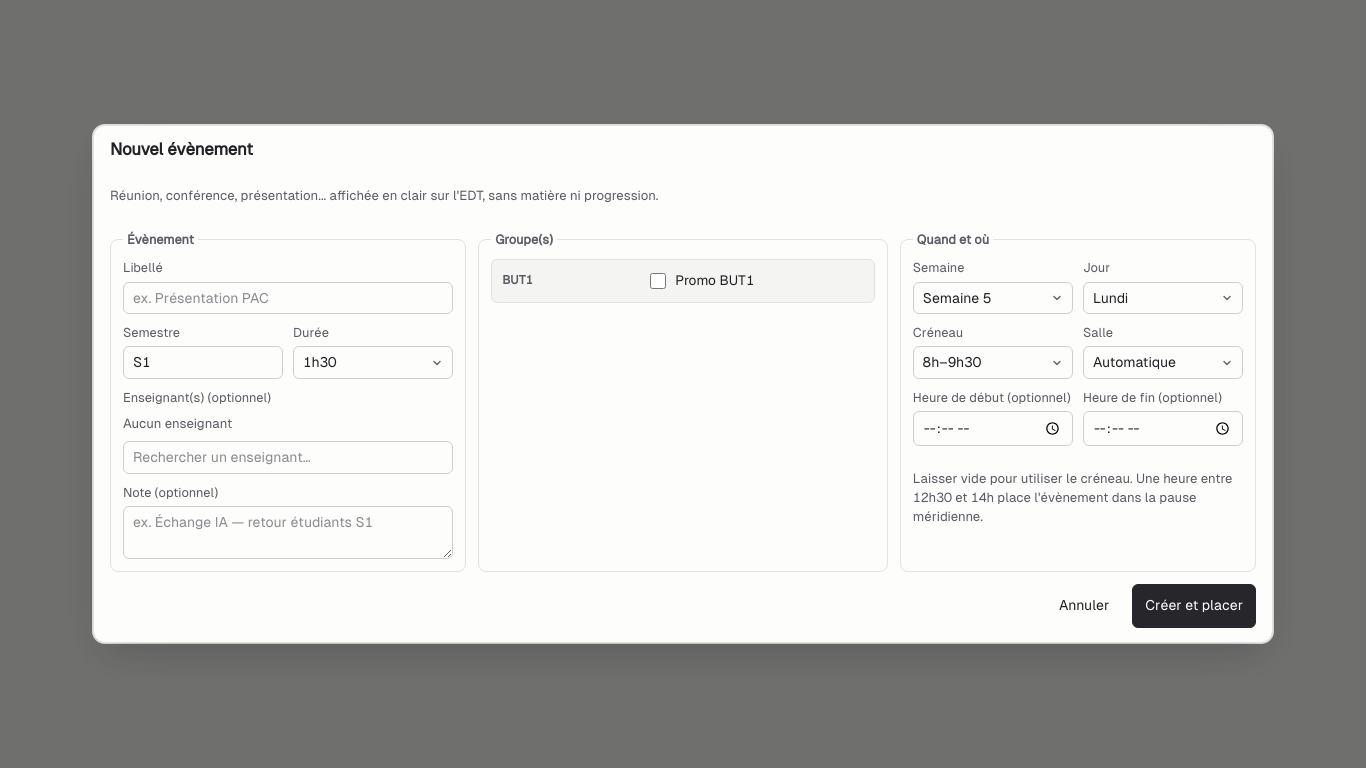
Test: CreerEvenementModal › should refuse to submit without a libelle
Click the button "Créer et placer" at (1194, 606), box [1132,584,1256,628]
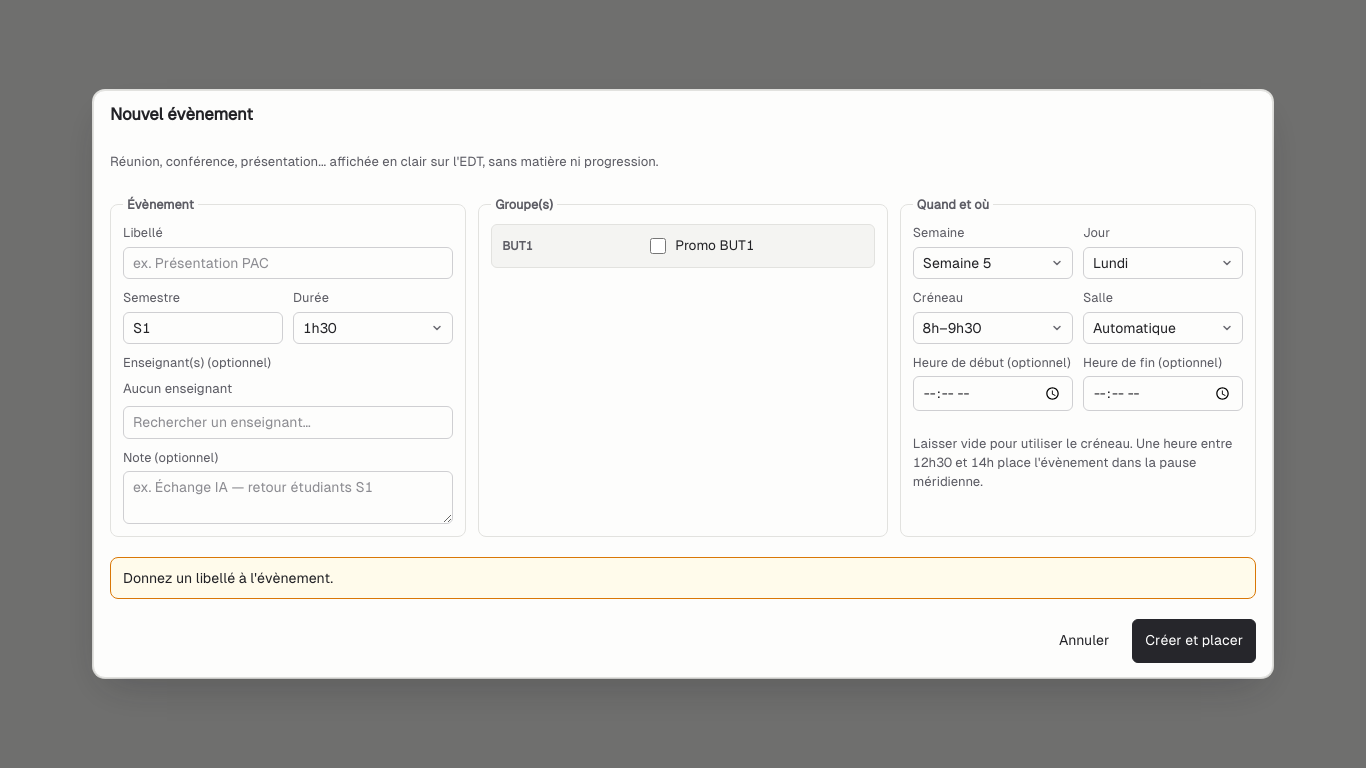
Check: the text "Donnez un libellé à l'évènement." is shown, box [110,557,1256,598]
